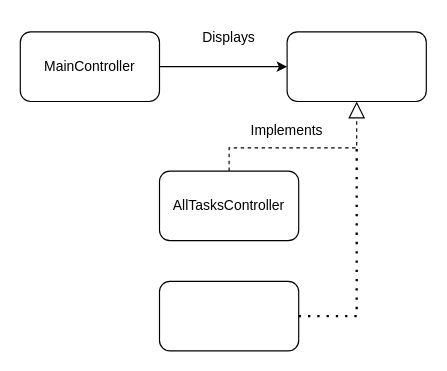
This 447x371 diagram has some shape labels left out. The box of each missing label's shape, as (x1, y1, x2, y2) in pixels:
<interface> ControllerInterface: (286, 31, 426, 102)
TaskController: (158, 280, 299, 351)
